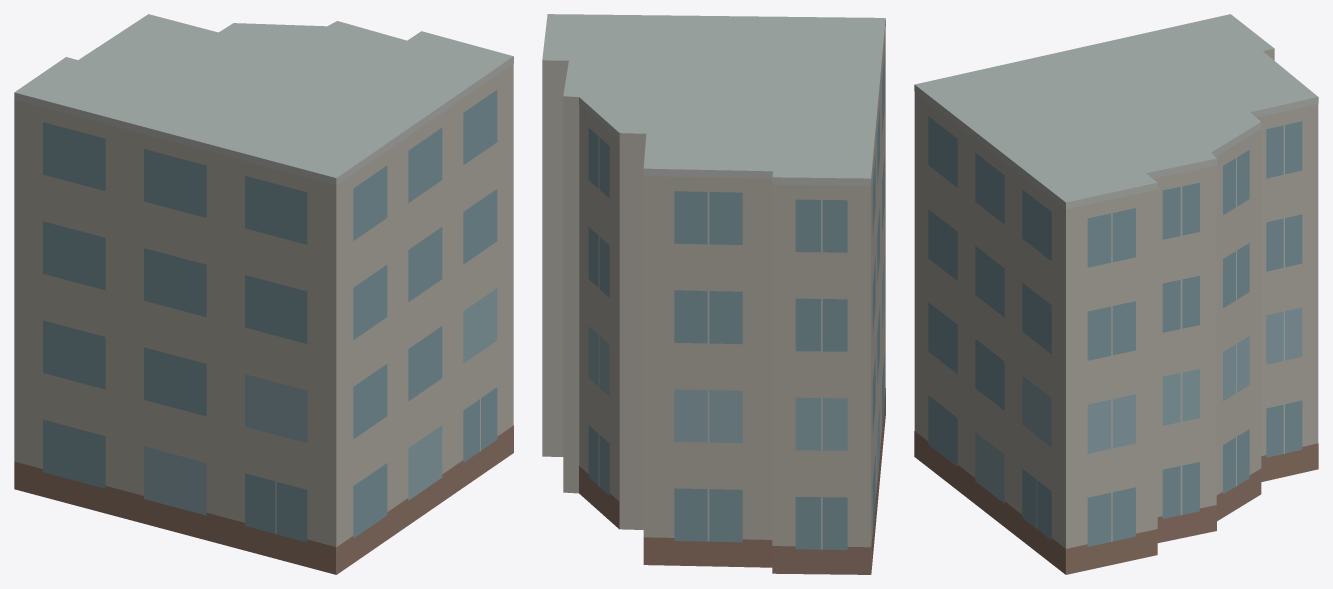
File: survey-upis-32509302.glb
3 renders of one model, left to right at view 1: azimuth 30°, elevation 25°; view 2: azimuth 150°, elevation 25°; view 3: azimuth 270°, elevation 25°, orthographic. The views are drawn at different scales.
Parts seen in each view (by area): view 1: survey-upis-32509302.tmp; view 2: survey-upis-32509302.tmp; view 3: survey-upis-32509302.tmp.
Part boxes in pixels (left/top/right/bottom): survey-upis-32509302.tmp: left=14, top=14, right=513, bottom=574; survey-upis-32509302.tmp: left=542, top=14, right=885, bottom=574; survey-upis-32509302.tmp: left=914, top=14, right=1318, bottom=574.
Size of the model in its own units: 14.35 by 13.2 by 12.99.
